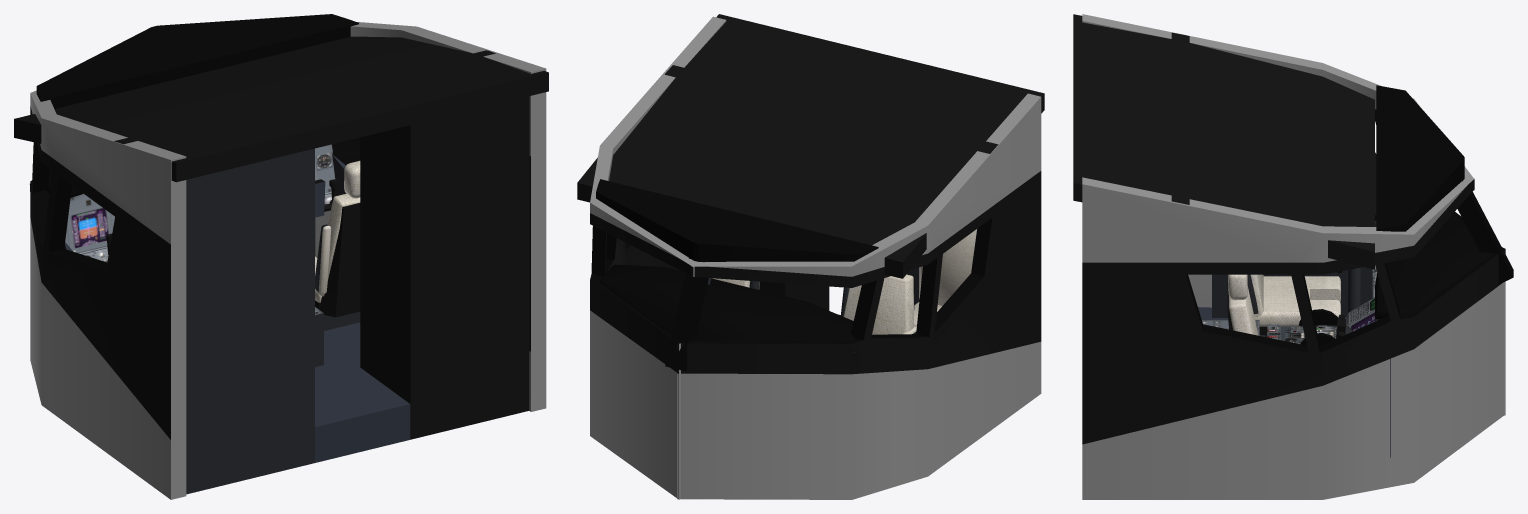
File: 737ckp.obj
3 views of the same model, side by side, from view 1: azimuth 30°, elevation 25°; view 2: azimuth 150°, elevation 25°; view 3: azimuth 270°, elevation 25° (orthographic). The views are drawn at different scales.
Visible parts, largest first — view 1: Box001, Box021, Box020, Box004, Box003, Box010, Box016, Box007, ChamferBox005, ChamferBox006, Cylinder004; view 2: Box001, Box004, Box003, ChamferBox001, ChamferBox002, Box006, ChamferBox009, Box021; view 3: Box001, Box004, Box003, ChamferBox001, ChamferBox002, Box006, Box018, Box009, ChamferBox005, Cylinder003.
Boxes of the visible parts, <box> form: Box001: <box>30,22,546,499</box>; Box021: <box>360,96,529,439</box>; Box020: <box>186,148,314,494</box>; Box004: <box>14,36,548,182</box>; Box003: <box>36,14,358,108</box>; Box010: <box>194,322,527,492</box>; Box016: <box>315,203,360,330</box>; Box007: <box>29,144,335,262</box>; ChamferBox005: <box>315,160,360,302</box>; ChamferBox006: <box>315,224,331,294</box>; Cylinder004: <box>315,179,338,255</box>; Box001: <box>590,16,1041,499</box>; Box004: <box>577,14,1044,278</box>; Box003: <box>596,179,878,261</box>; ChamferBox001: <box>599,264,854,341</box>; ChamferBox002: <box>843,274,913,334</box>; Box006: <box>665,258,708,371</box>; ChamferBox009: <box>919,229,976,305</box>; Box021: <box>759,281,829,310</box>; Box001: <box>1082,14,1505,499</box>; Box004: <box>1073,14,1374,269</box>; Box003: <box>1376,85,1464,231</box>; ChamferBox001: <box>1375,214,1493,319</box>; ChamferBox002: <box>1250,274,1340,326</box>; Box006: <box>1457,180,1513,284</box>; Box018: <box>1212,221,1376,317</box>; Box009: <box>1267,297,1378,343</box>; ChamferBox005: <box>1228,274,1258,335</box>; Cylinder003: <box>1336,267,1360,313</box>.
Size of the model in its own units: 19.88 by 17.2 by 21.72.
11 materials, 3 textured.
